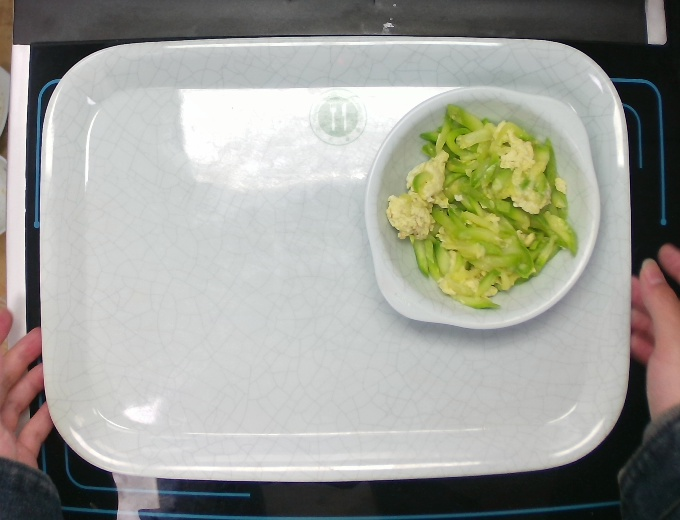JYsf-Shuang_Er_Wan: (356, 72, 605, 336)
